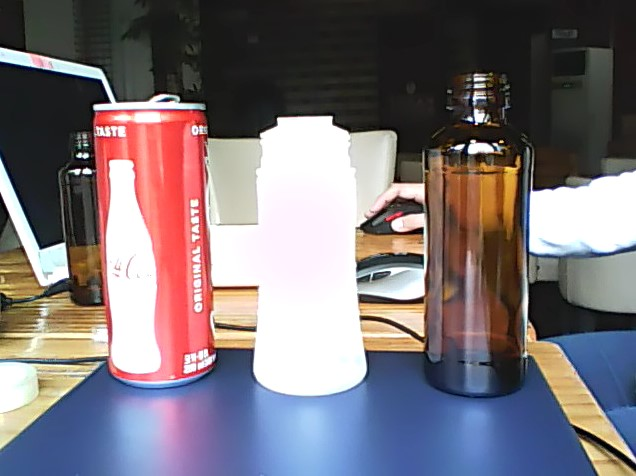Can: (88, 91, 222, 391)
Glass: (425, 68, 536, 399)
Plastic: (247, 110, 374, 398)
